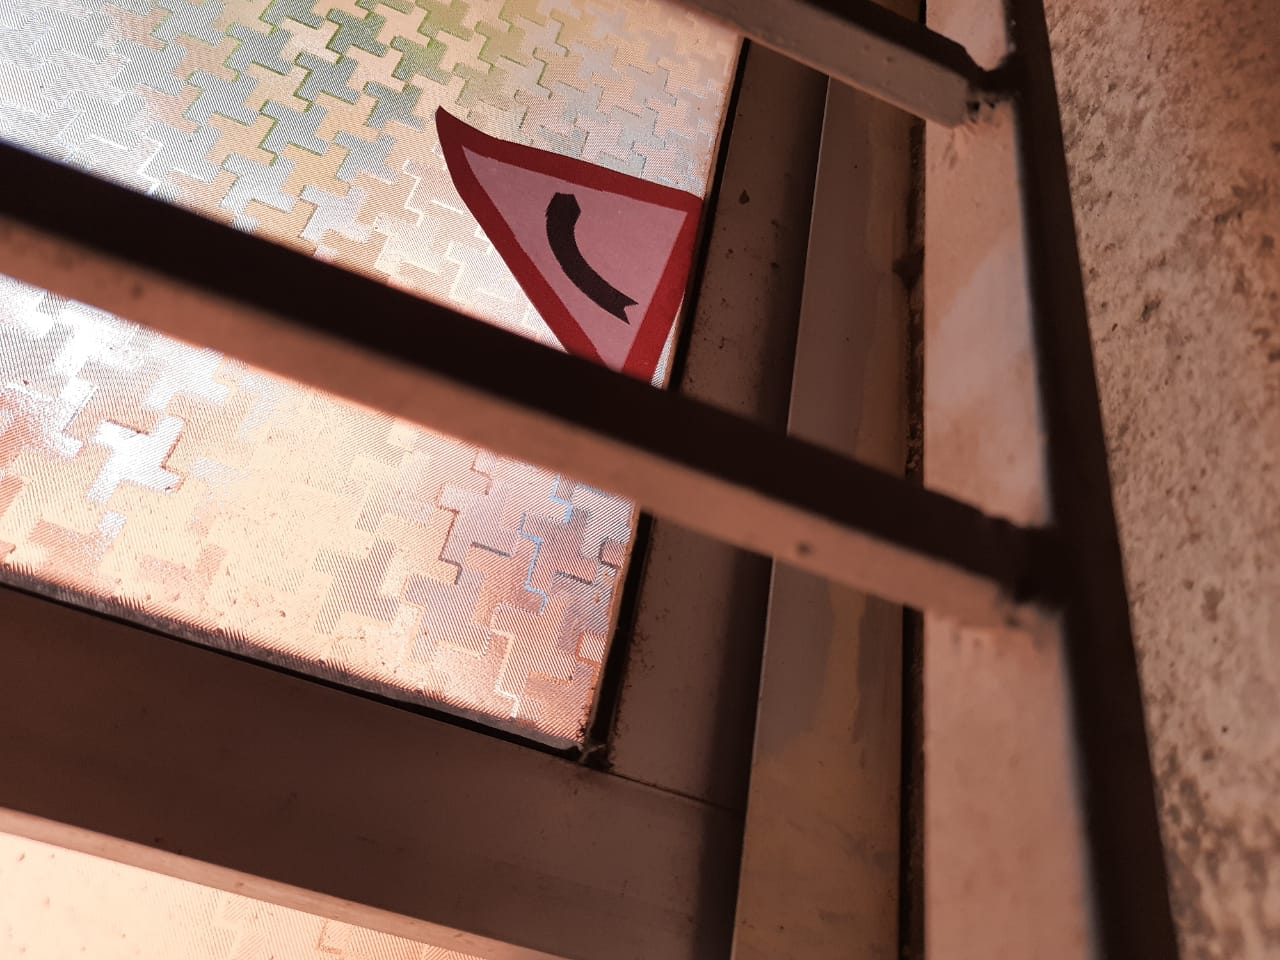RIGHT CURVE: (406, 81, 708, 418)
